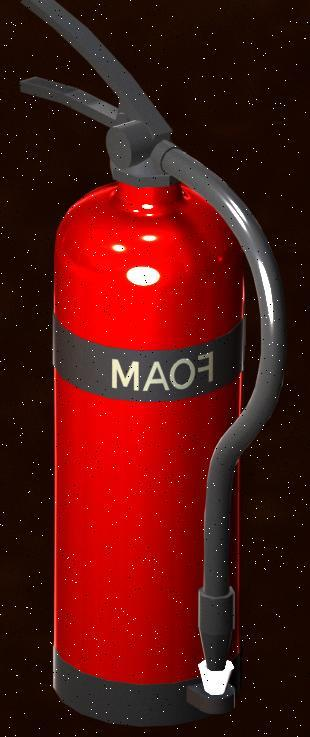Fire Extinguisher: (2, 6, 310, 737)
